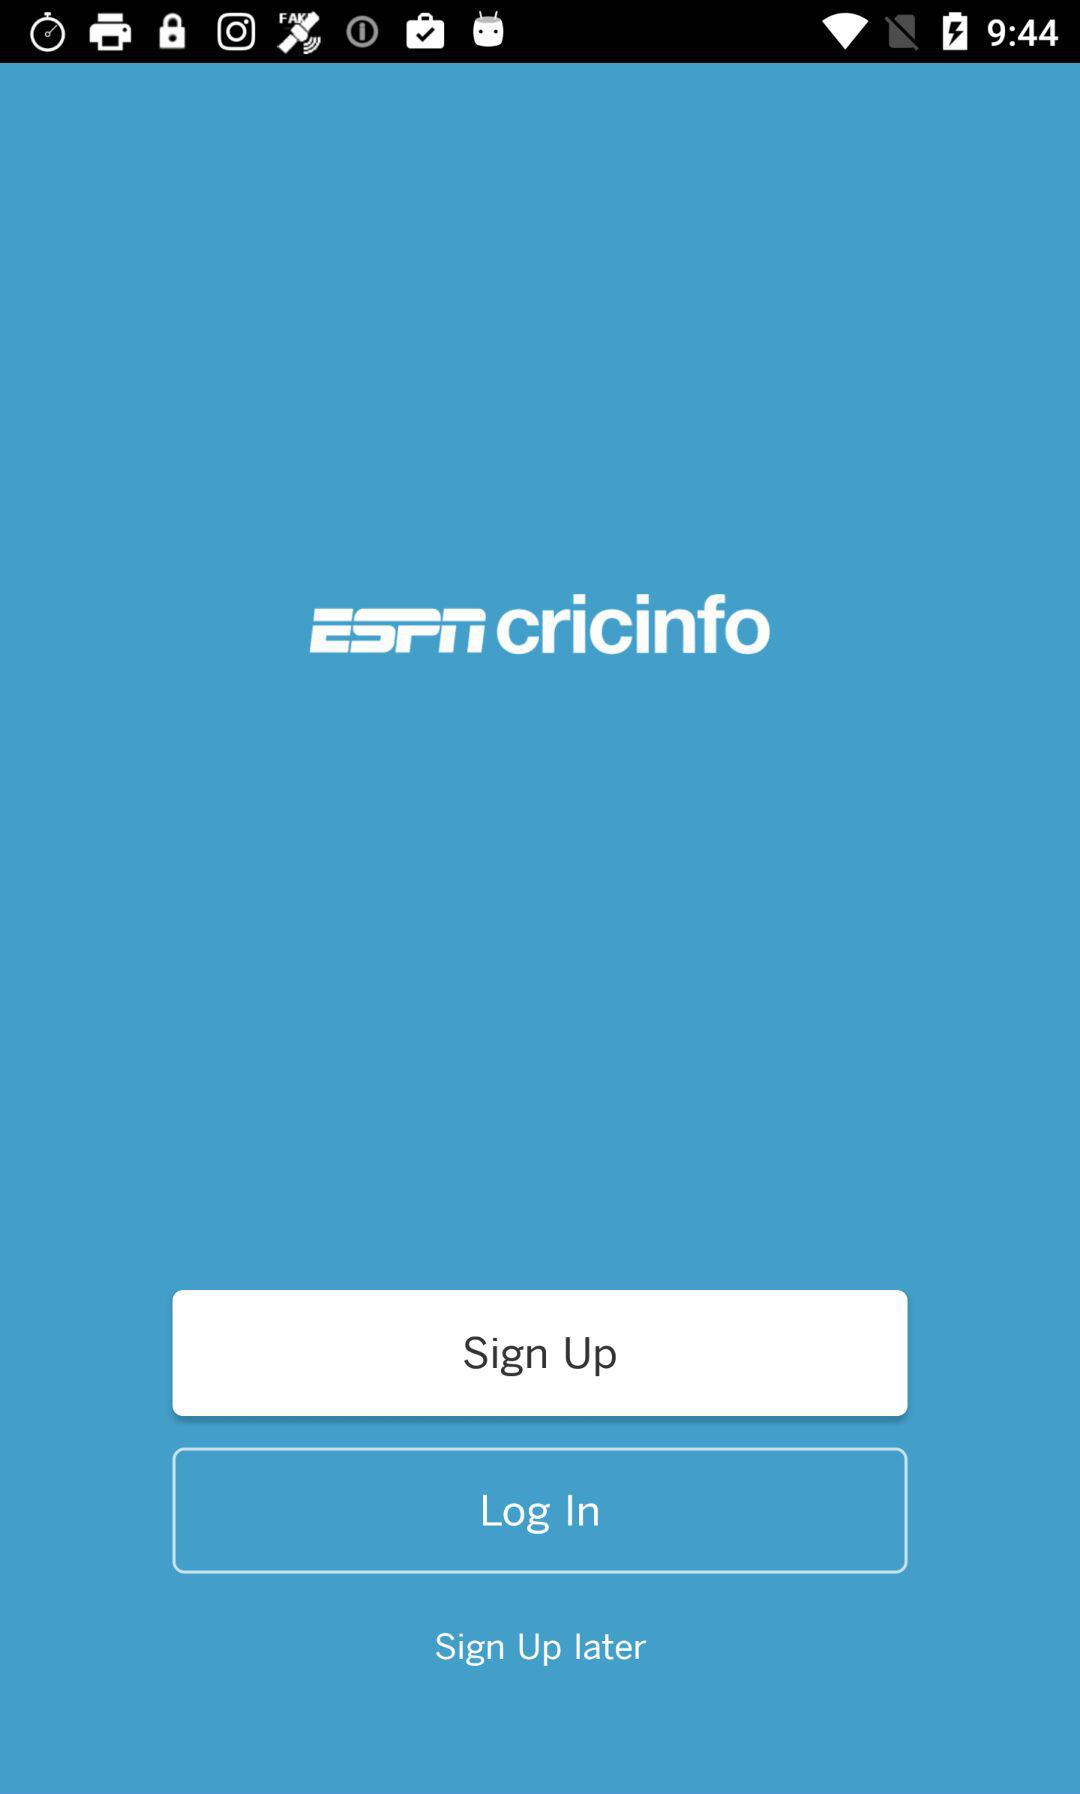Image: (309, 593, 773, 655)
Text: (436, 1631, 648, 1668)
TextButton: (172, 1447, 910, 1575), (172, 1290, 910, 1417)
UpperTaskBar: (1, 1, 1080, 64)
